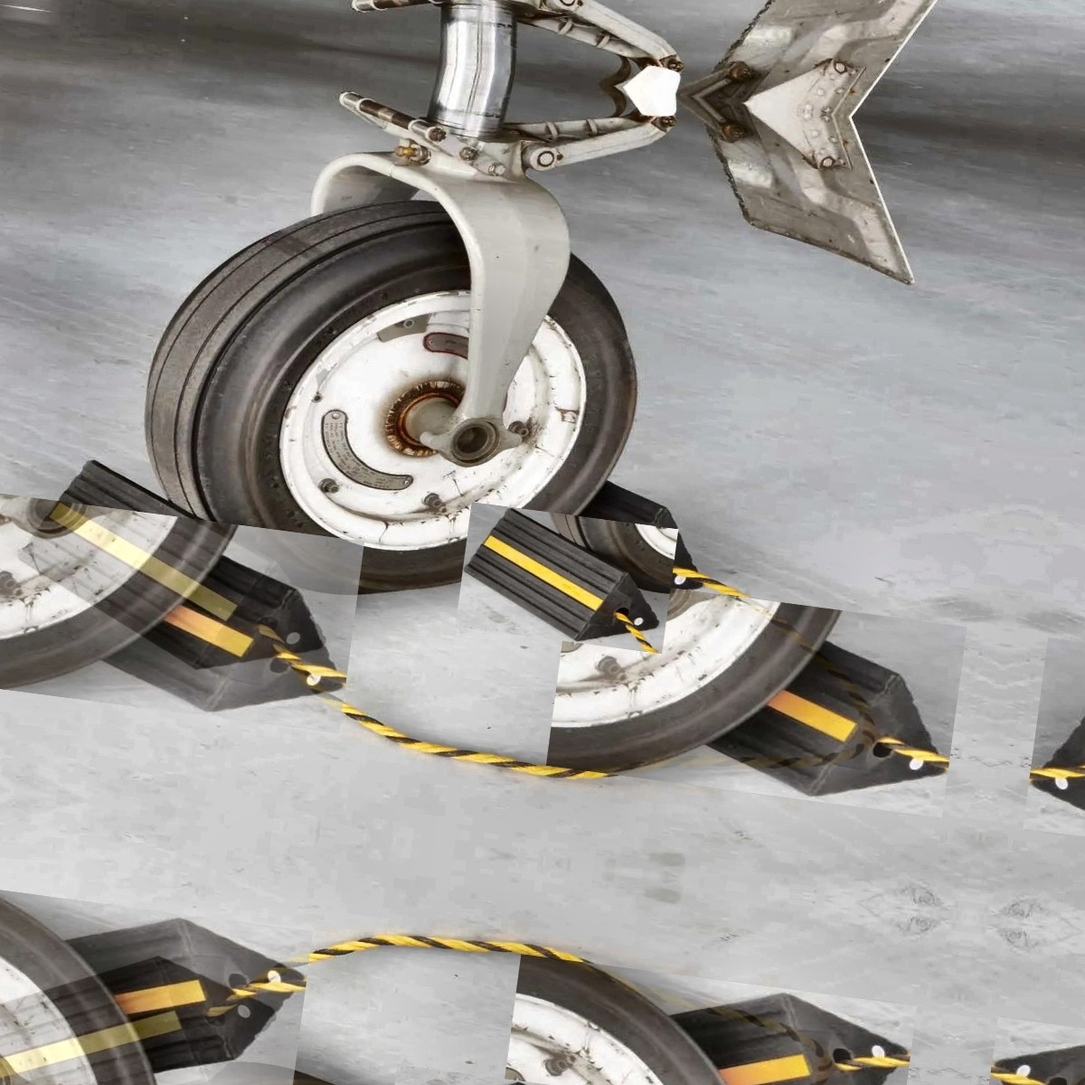chock: (546, 575, 967, 818), (0, 489, 365, 734), (4, 450, 355, 689), (382, 427, 721, 624), (0, 879, 313, 1085), (496, 955, 917, 1085), (0, 929, 292, 1085), (455, 502, 678, 654)
wheel: (132, 171, 661, 626)
